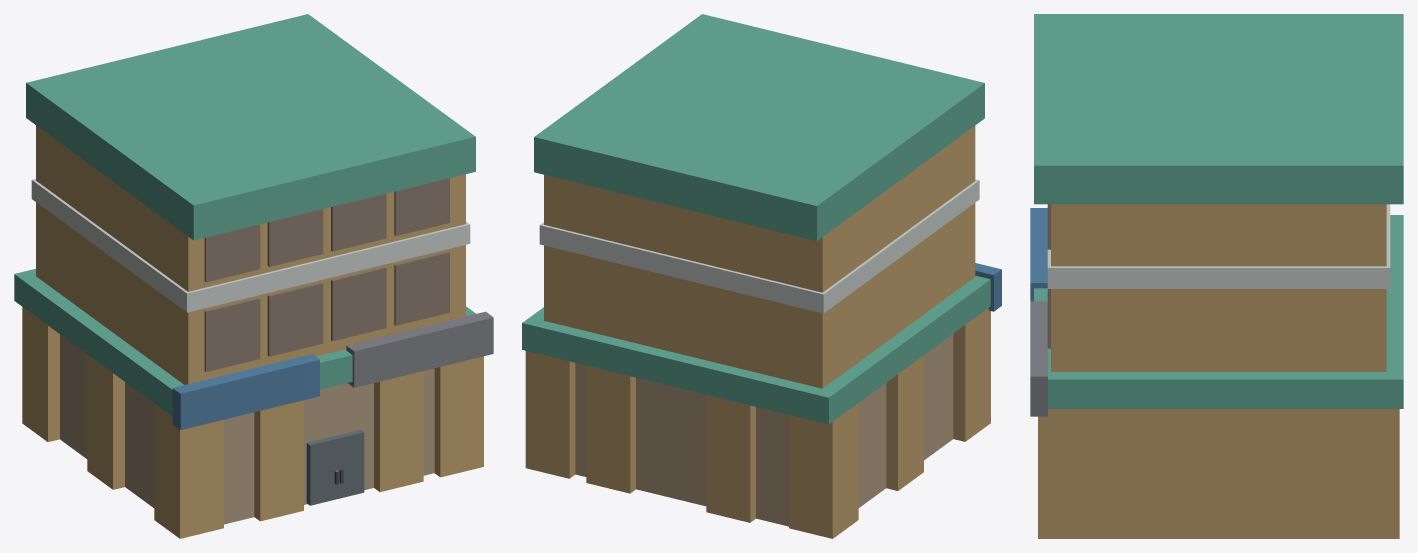
Rendered from Building_08.fbx.
3 renders of one model, left to right at view 1: azimuth 30°, elevation 25°; view 2: azimuth 150°, elevation 25°; view 3: azimuth 270°, elevation 25°, orthographic. The views are drawn at different scales.
Visible parts, largest first — view 1: polySurface1951; view 2: polySurface1951; view 3: polySurface1951.
Boxes of the visible parts, x1,y1,x2,y2 form: polySurface1951: [14, 14, 493, 538]; polySurface1951: [522, 14, 1001, 538]; polySurface1951: [1030, 14, 1403, 538].
Bounding box in the file's own units: 2.5 × 2.54 × 2.34.
